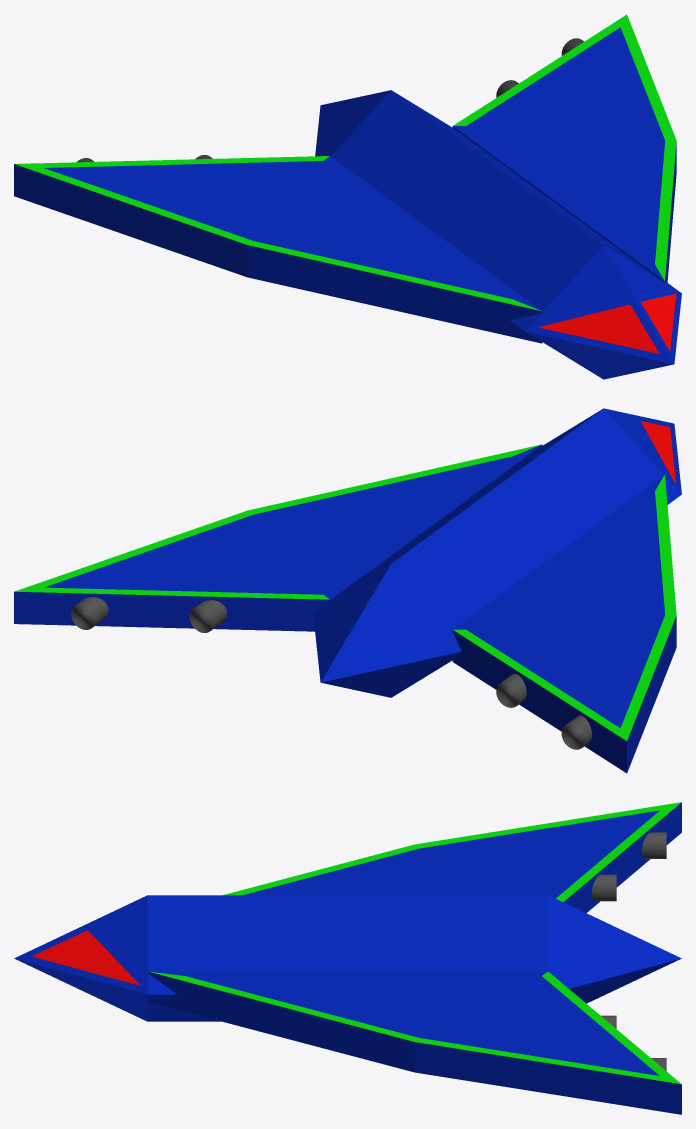
File: Dopple_Buster_003.fbx
3 renders of one model, top to bottom at view 1: azimuth 30°, elevation 25°; view 2: azimuth 150°, elevation 25°; view 3: azimuth 270°, elevation 25°, orthographic. The views are drawn at different scales.
Parts seen in each view (by area): view 1: wings, body; view 2: wings, body, thrust, thrust_001; view 3: wings, body, thrust, thrust_001.
Part boxes in pixels (x1,y1,x2,y2): wings: (14,14,676,343); body: (315,90,681,379); wings: (14,444,676,773); body: (313,408,681,697); thrust: (189,600,526,707); thrust_001: (71,597,591,749); wings: (147,802,681,1114); body: (14,895,681,1021); thrust: (592,874,616,1028); thrust_001: (642,832,666,1070).
Bounding box in the file's own units: 200 × 41.81 × 200.
